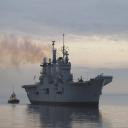Portanaves: (22, 34, 115, 110)
